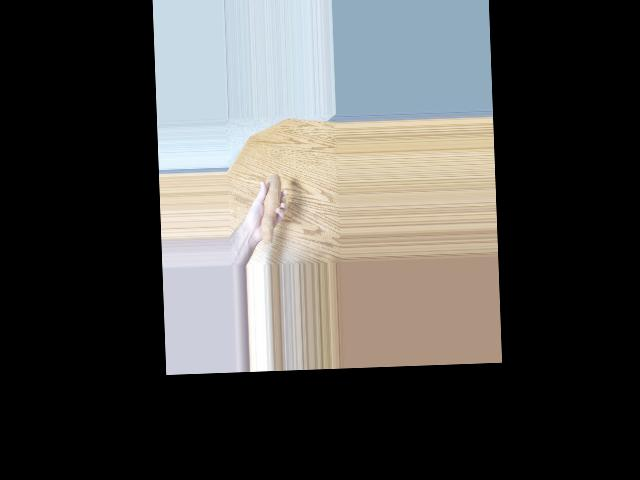sweet_potato: (252, 172, 284, 251)
